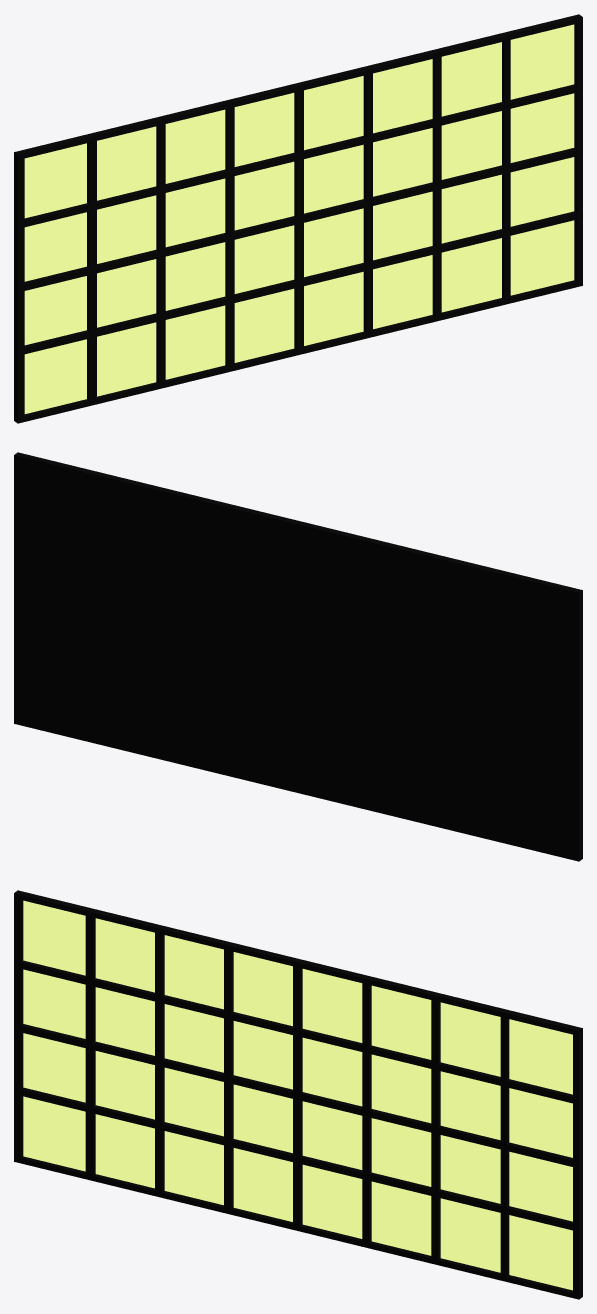
File: window.fbx
The picture shows the model from 3 angles, top to bottom: view 1: azimuth 30°, elevation 25°; view 2: azimuth 150°, elevation 25°; view 3: azimuth 330°, elevation 25°; orthographic projection.
Visible parts, largest first — view 1: windowpane, window; view 2: windowpane, window; view 3: windowpane, window.
Boxes of the visible parts, box(x1,y1,x2,y2) form: windowpane: box(24, 24, 574, 413); window: box(14, 14, 582, 423); windowpane: box(20, 462, 572, 854); window: box(14, 452, 582, 861); windowpane: box(23, 900, 572, 1290); window: box(14, 890, 582, 1299).
Size of the model in its own units: 431 by 196 by 5.09.
